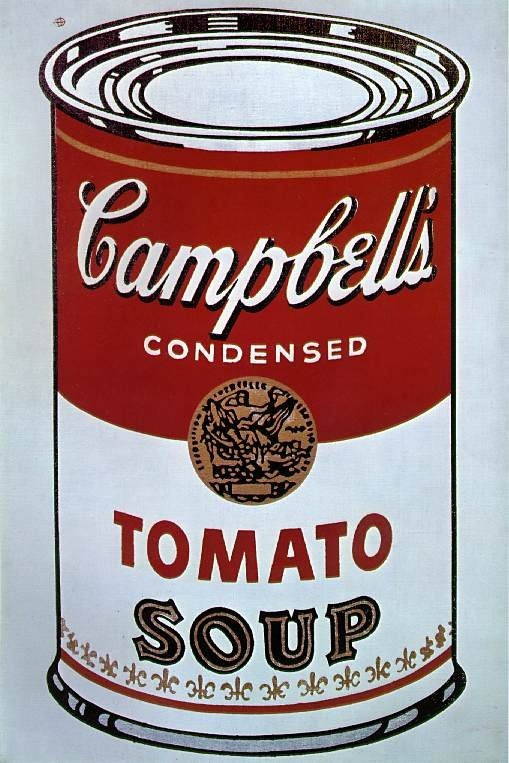grozi_88: (0, 6, 509, 763)
